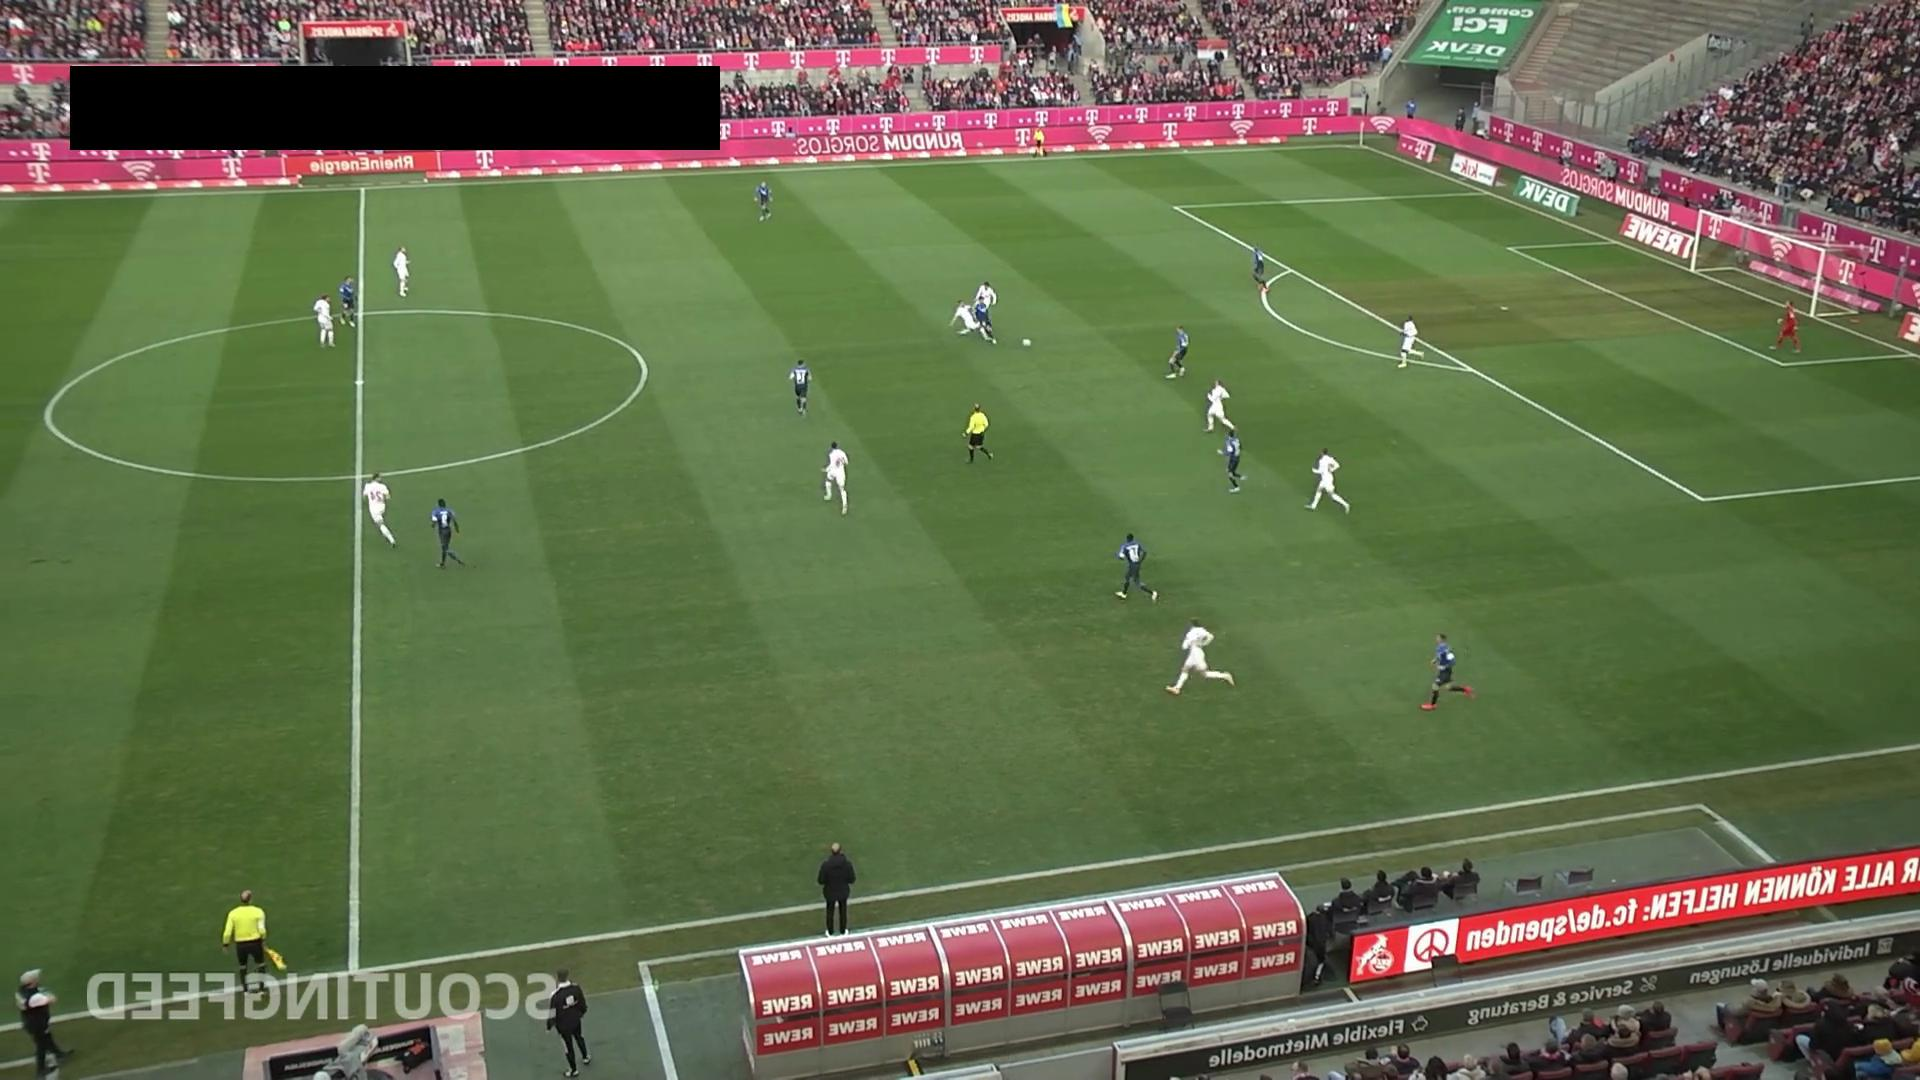ball: (1021, 336, 1032, 348)
goalkeeper: (1772, 300, 1802, 353)
player: (1164, 618, 1236, 696), (1421, 632, 1476, 709), (1113, 531, 1159, 602), (1304, 447, 1351, 515), (363, 471, 398, 548), (430, 497, 466, 569), (823, 439, 849, 515), (948, 299, 991, 340), (1203, 379, 1235, 433), (1218, 429, 1244, 492), (1165, 323, 1190, 379), (974, 279, 998, 336), (788, 358, 811, 417), (313, 294, 336, 347), (1397, 314, 1419, 369), (974, 296, 996, 342), (337, 274, 356, 327), (392, 245, 411, 298), (1251, 244, 1270, 296), (754, 181, 773, 222)
referee: (221, 889, 289, 993), (963, 403, 993, 463), (1030, 122, 1049, 159)
